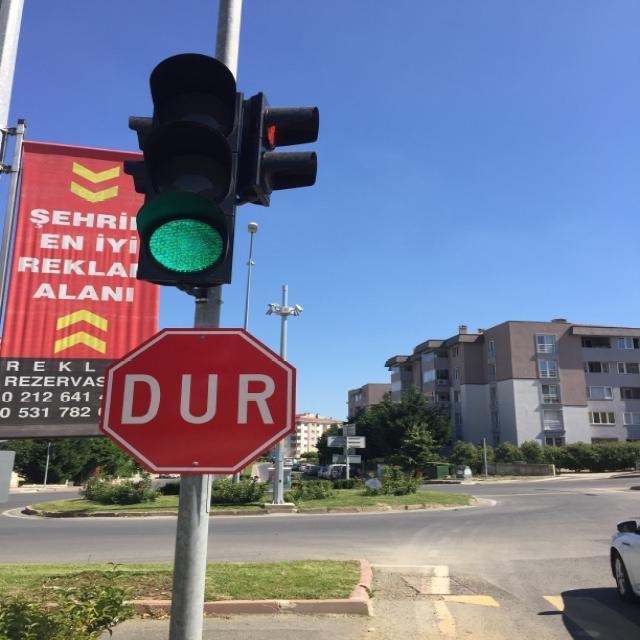dur: (99, 328, 295, 474)
yesil: (138, 52, 243, 284)
